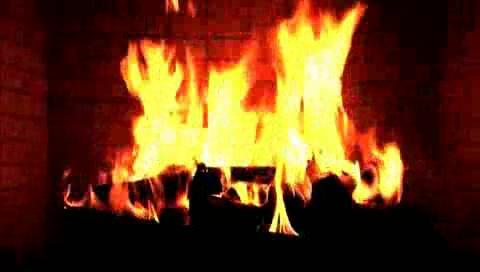fire: (131, 26, 367, 206)
